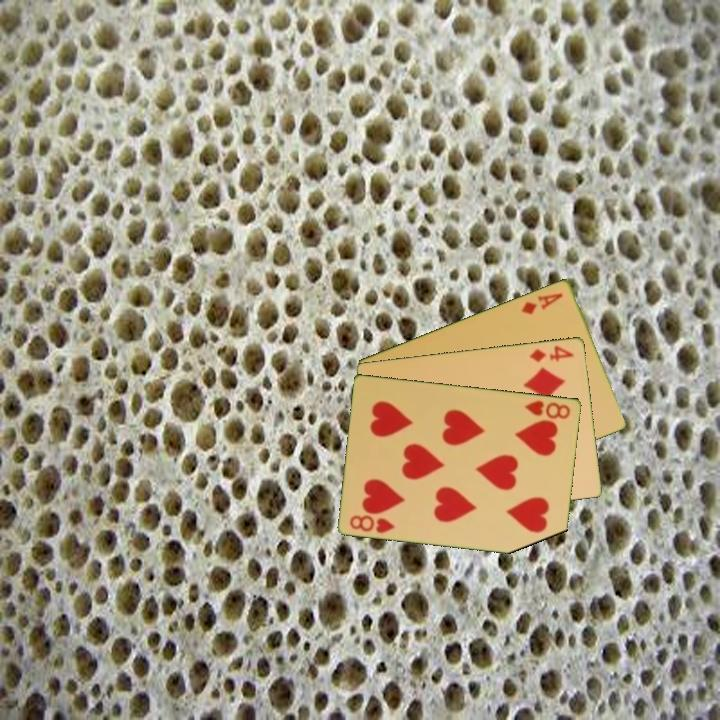4d: (526, 342, 576, 365)
8h: (521, 396, 574, 422), (346, 511, 398, 536)
Ad: (518, 289, 566, 317)
